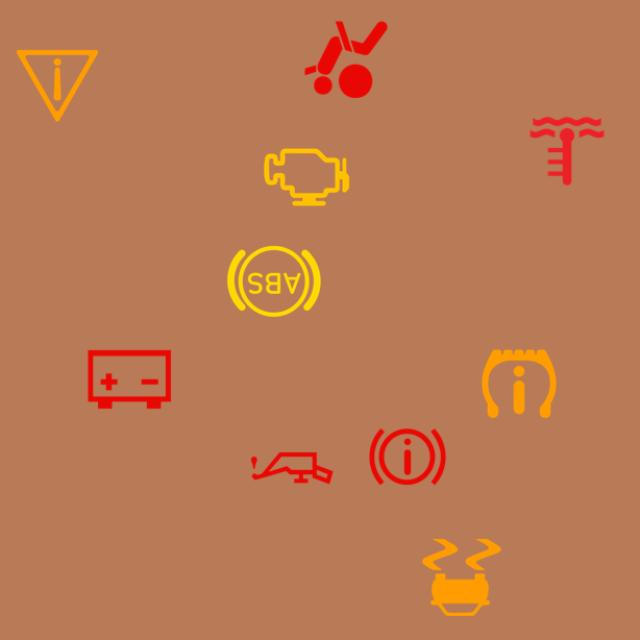Anti Lock Braking System: (223, 230, 325, 332)
Braking System Issue: (356, 406, 458, 508)
Charging System Issue: (78, 328, 180, 431)
Check Engine: (255, 126, 358, 228)
Electronic Stability Problem -ESP-: (411, 526, 513, 628)
Engine Overheating Warning Light: (516, 100, 618, 202)
Low Engine Oil Warning Light: (241, 417, 343, 519)
Low Tire Pressure Warning Light: (468, 332, 570, 434)
Master warning light: (7, 35, 108, 136)
SRS-Airbag: (295, 9, 397, 110)
